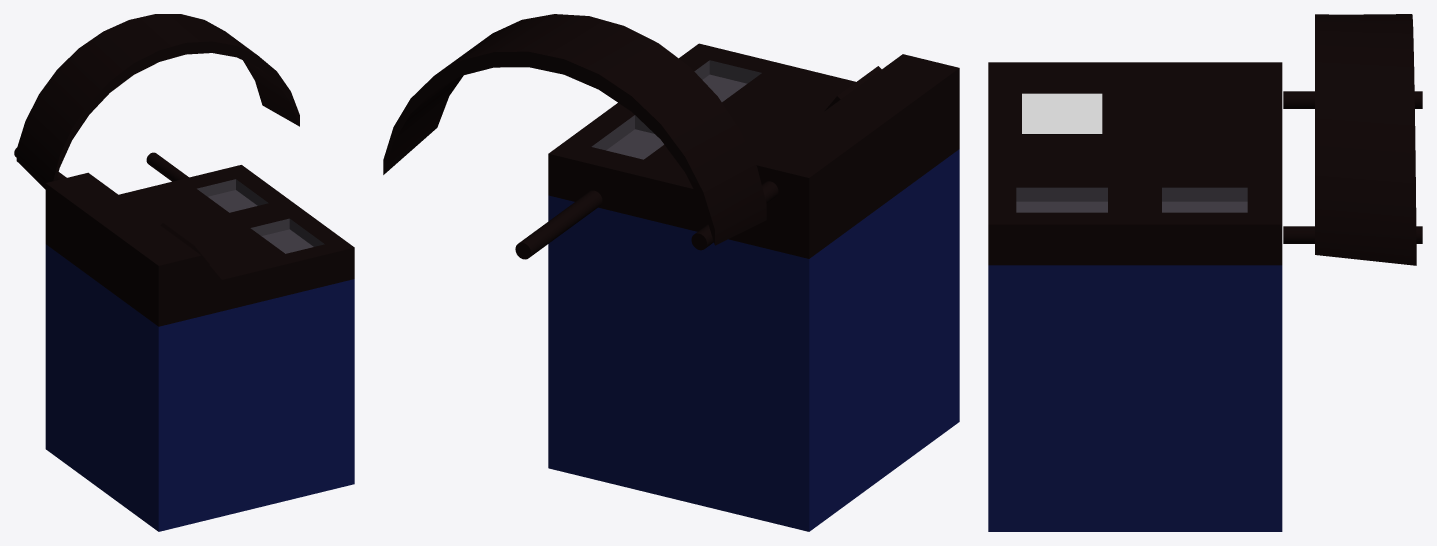
File: wheel_balancer_last2.fbx
The picture shows the model from 3 angles, left to right: view 1: azimuth 30°, elevation 25°; view 2: azimuth 150°, elevation 25°; view 3: azimuth 270°, elevation 25°; orthographic projection. The views are drawn at different scales.
Parts seen in each view (by area): view 1: Cylinder.002, Cylinder.003; view 2: Cylinder.002, Cylinder.003; view 3: Cylinder.002, Cylinder.003.
Boxes of the visible parts, bbox=[...] form: Cylinder.002: bbox=[14, 148, 354, 531]; Cylinder.003: bbox=[16, 14, 299, 189]; Cylinder.002: bbox=[515, 43, 959, 531]; Cylinder.003: bbox=[383, 14, 766, 245]; Cylinder.002: bbox=[988, 62, 1422, 531]; Cylinder.003: bbox=[1315, 14, 1416, 265].
Bounding box in the file's own units: 274 × 351 × 296.
